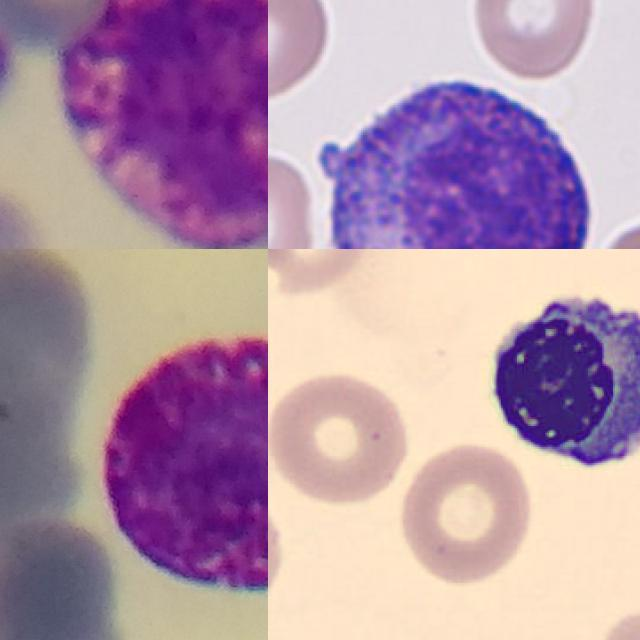Basophil: (56, 0, 268, 249), (101, 333, 268, 595)
Lymphocyte: (304, 60, 610, 249), (474, 279, 640, 475)
RBC: (395, 438, 537, 588), (268, 368, 413, 509), (464, 0, 602, 81), (268, 0, 336, 105), (268, 145, 320, 249), (268, 249, 371, 299)
